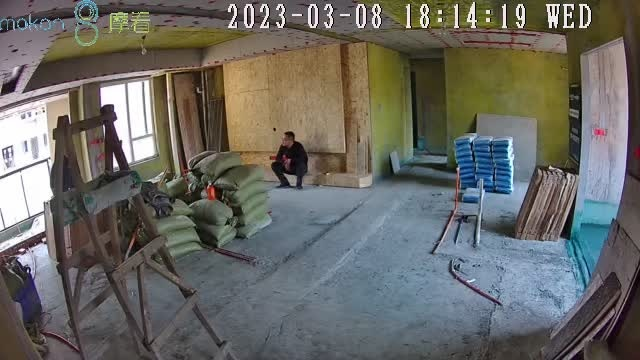people: (271, 132, 308, 189)
window: (1, 93, 74, 230), (99, 81, 159, 164)
